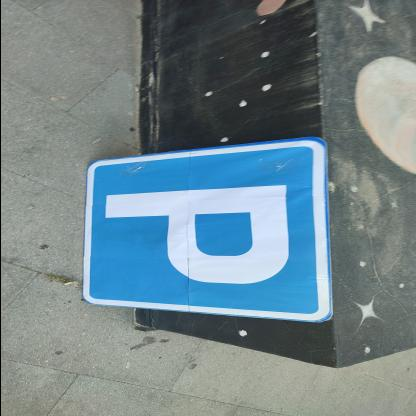Parking-Sign: (84, 138, 335, 324)
